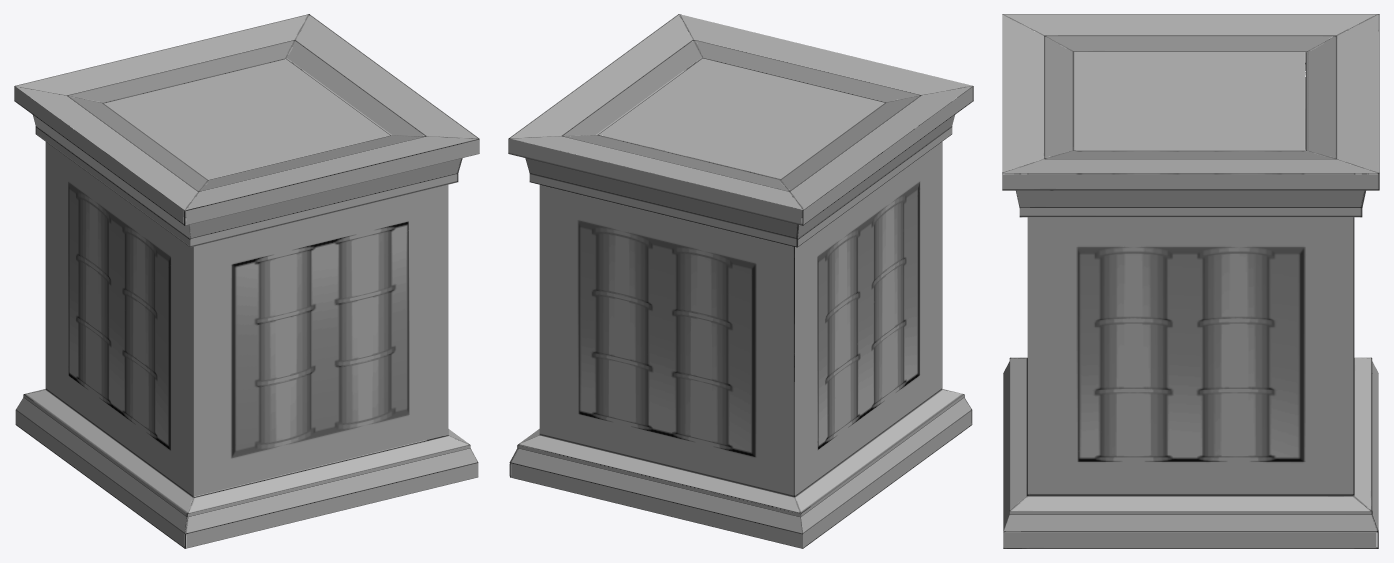
The model's file is tile.obj.
The picture shows the model from 3 angles, left to right: view 1: azimuth 30°, elevation 25°; view 2: azimuth 150°, elevation 25°; view 3: azimuth 270°, elevation 25°; orthographic projection. The views are drawn at different scales.
Bounding box in the file's own units: 1.97 × 2.17 × 1.97.
